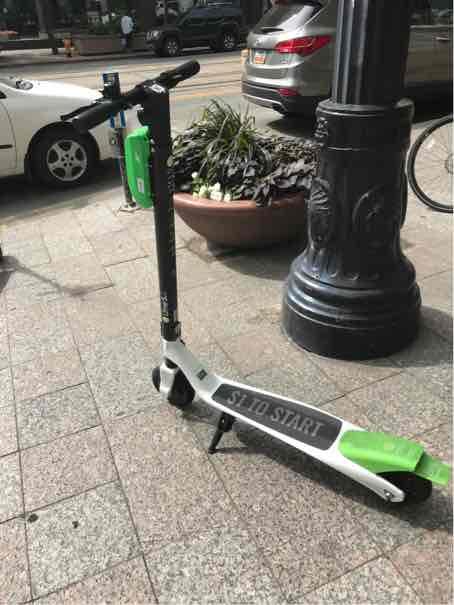scooter: (56, 57, 454, 515)
